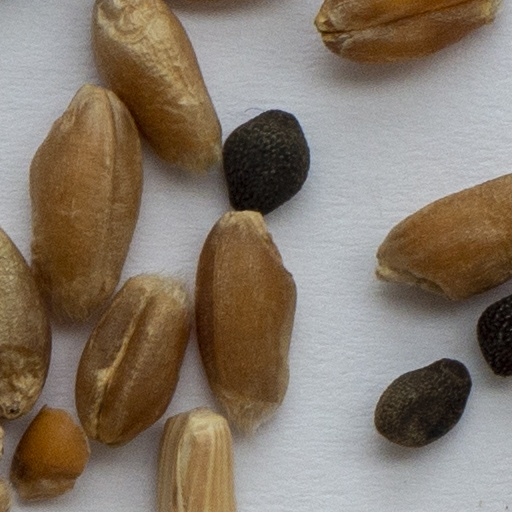Convolvulus-poly: (220, 103, 310, 218), (370, 355, 476, 450), (475, 290, 511, 379)
Peel-poly: (159, 410, 236, 511)
